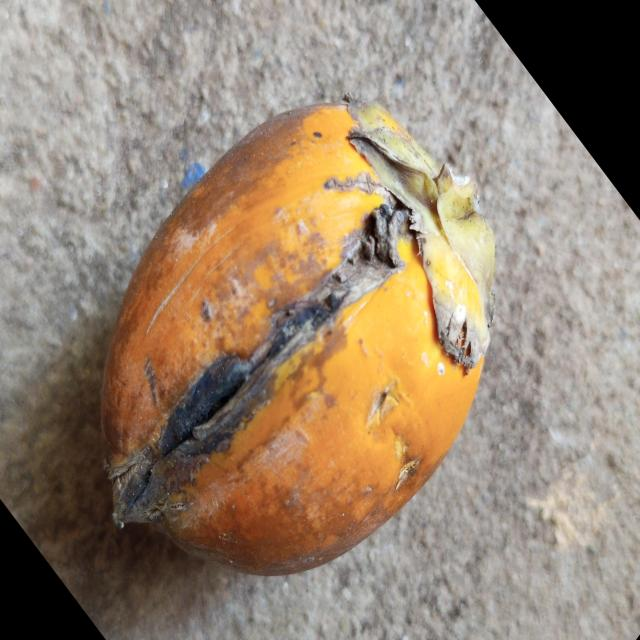damaged: (102, 96, 495, 574)
